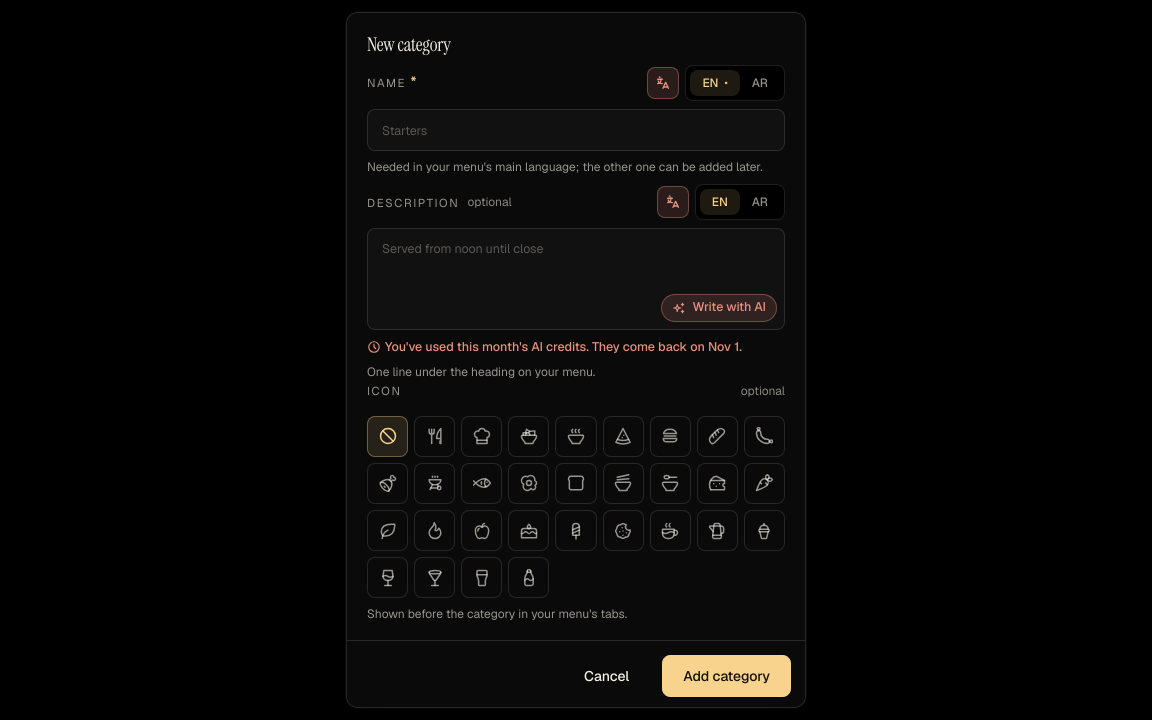
Test case: the category form fills in its other language with AI › still asks for the main language when the AI will not fill it in
Click the tab "AR" in the row of "Name". click: click(760, 83)
box: x1=740 y1=70 x2=780 y2=96
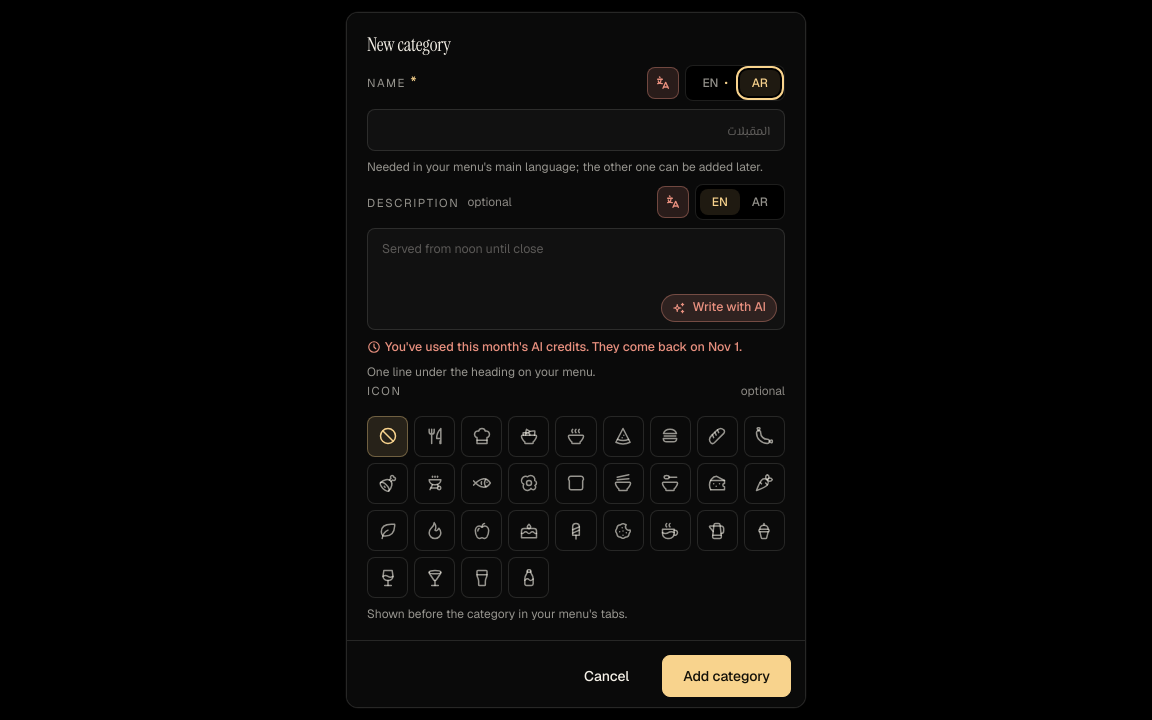
Type "شوربات" into the field labelled "Name*". click: (576, 130)
box: x1=368 y1=110 x2=784 y2=150
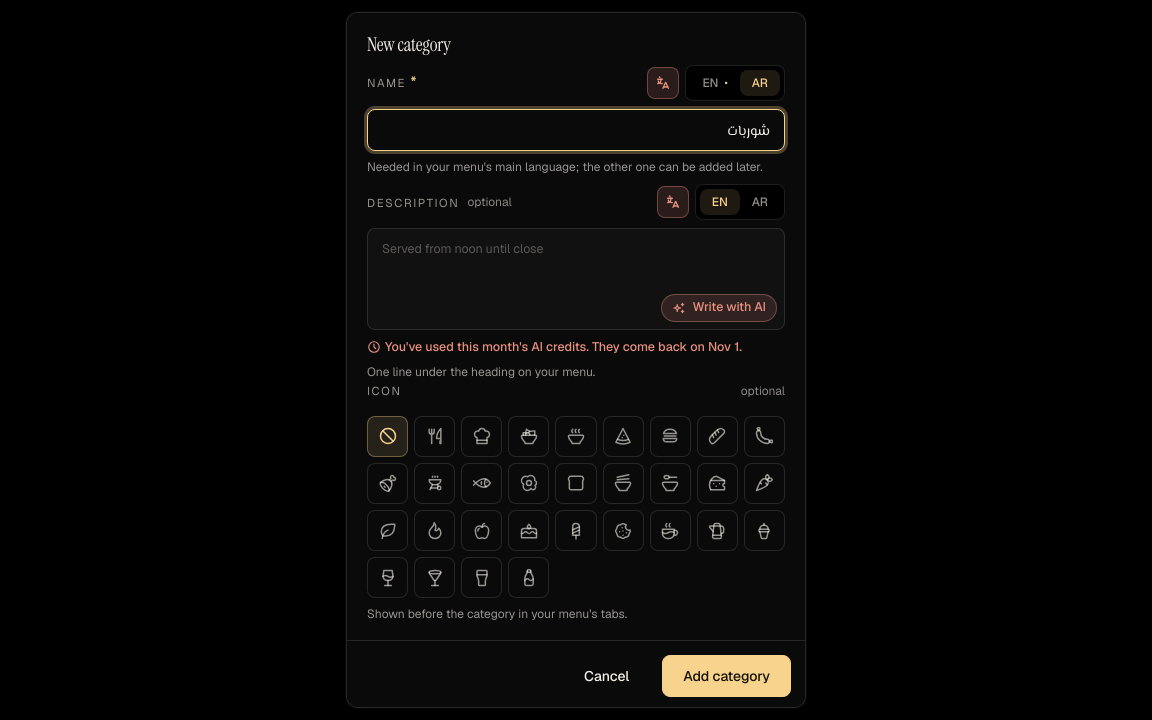
Click the button "Add category". click: click(727, 676)
box: x1=662 y1=655 x2=791 y2=697
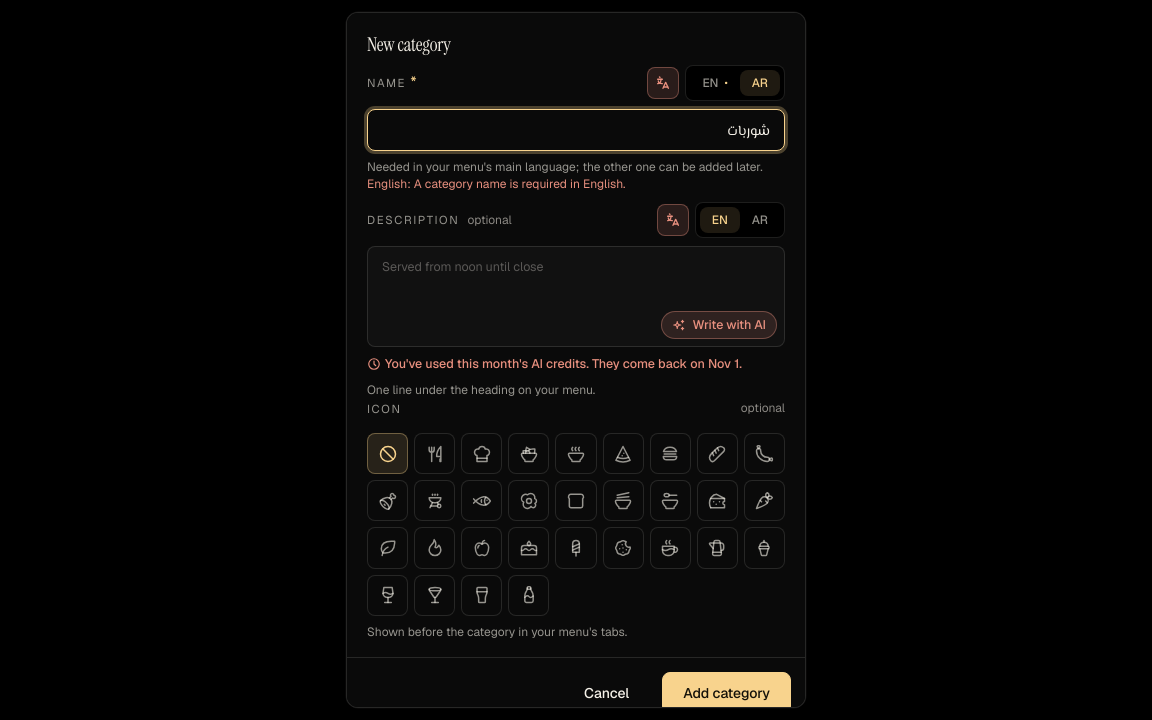
expect the text "English: A category name is required in English." is shown: met, box x1=367 y1=176 x2=626 y2=192
